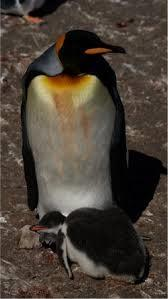king: (8, 24, 163, 254)
